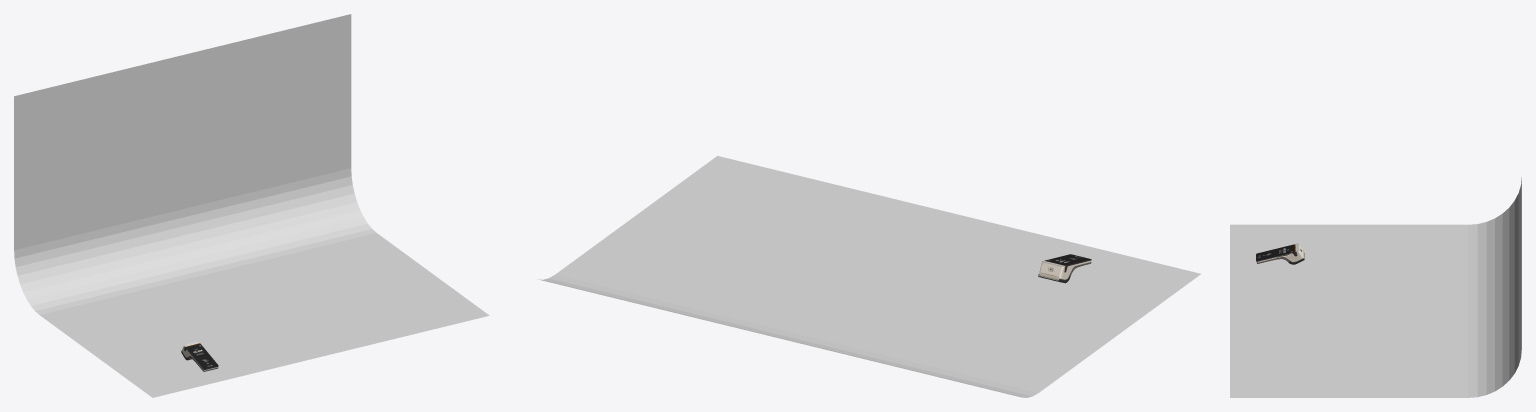
Rendered from sunmi_p3h.glb.
3 views of the same model, side by side, from view 1: azimuth 30°, elevation 25°; view 2: azimuth 150°, elevation 25°; view 3: azimuth 270°, elevation 25° (orthographic). The views are drawn at different scales.
Parts seen in each view (by area): view 1: Plane.001; view 2: Plane.001, Plane.004; view 3: Plane.001, Plane.004, Plane.
Boxes of the visible parts, x1=… form: Plane.001: x1=14, y1=14, x2=489, y2=397; Plane.001: x1=538, y1=156, x2=1200, y2=397; Plane.004: x1=1038, y1=254, x2=1090, y2=283; Plane.001: x1=1230, y1=177, x2=1521, y2=397; Plane.004: x1=1258, y1=243, x2=1304, y2=264; Plane: x1=1257, y1=245, x2=1293, y2=260.
Bounding box in the file's own units: 16.34 × 9.57 × 11.64.
Materials: 19 (2 with a texture image).
